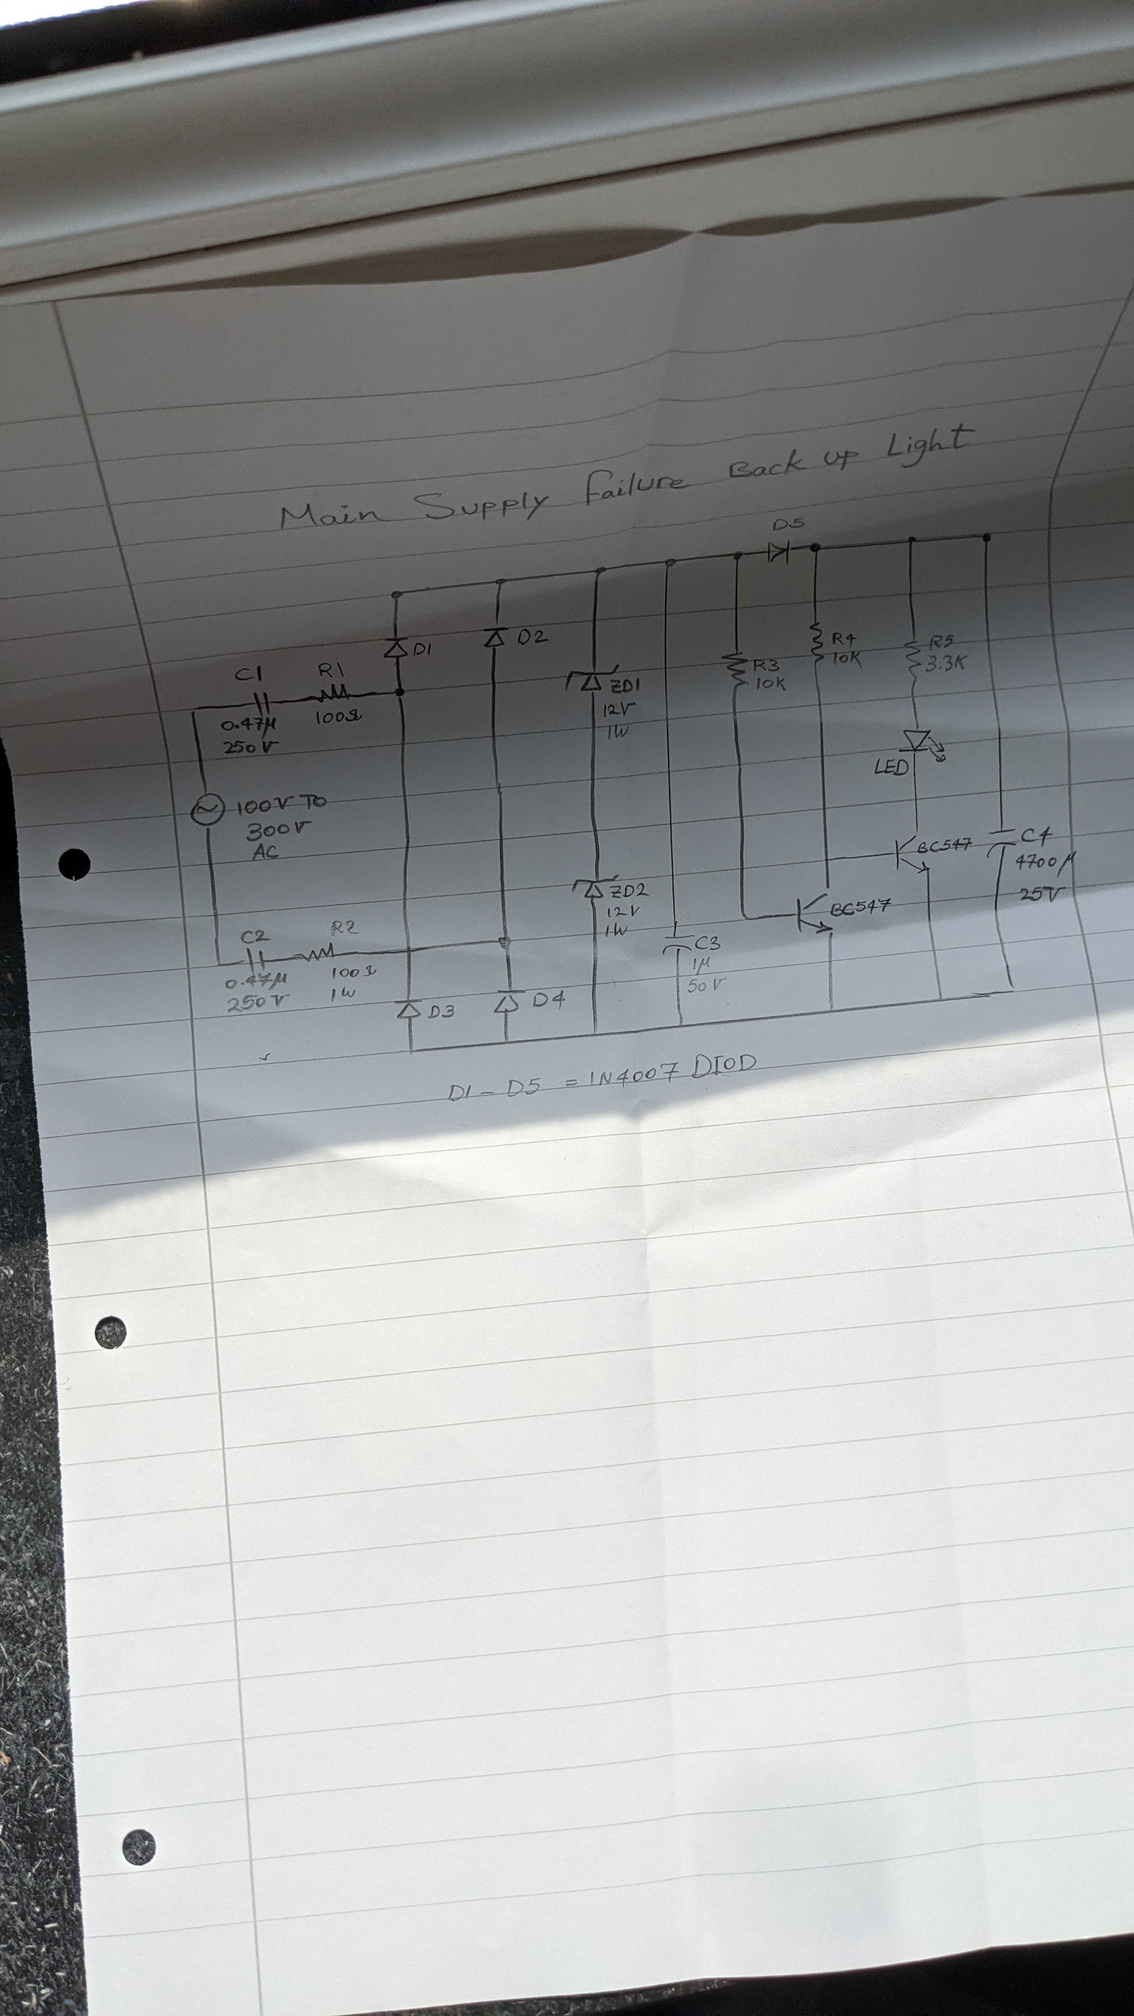capacitor.unpolarized: (984, 822, 1016, 858), (238, 944, 271, 973), (660, 933, 695, 957), (251, 690, 277, 717)
crossover: (402, 943, 420, 958)
diode: (564, 663, 620, 694), (570, 874, 620, 899), (490, 987, 528, 1016), (480, 620, 510, 649), (393, 996, 424, 1022), (764, 539, 792, 566), (381, 636, 410, 660)
diode.light_emitting: (896, 727, 948, 764)
junction: (496, 935, 515, 950), (392, 685, 407, 701), (935, 991, 950, 1005), (827, 1002, 840, 1016), (389, 588, 404, 601), (588, 1027, 604, 1040), (663, 557, 678, 569), (501, 1036, 515, 1048), (676, 1019, 690, 1032), (1007, 982, 1019, 996), (980, 532, 994, 544), (809, 541, 822, 554), (731, 548, 744, 562), (593, 564, 606, 576), (738, 911, 752, 924), (493, 576, 508, 587), (406, 1045, 420, 1056), (906, 534, 918, 546), (821, 856, 834, 865), (188, 705, 199, 714), (215, 960, 226, 969)
resistor: (719, 648, 750, 688), (291, 942, 338, 965), (307, 683, 354, 703), (901, 637, 922, 683), (807, 619, 827, 665)
text: (276, 420, 978, 534), (446, 1051, 759, 1104), (235, 792, 328, 817), (1014, 850, 1077, 878), (245, 820, 313, 843), (226, 993, 294, 1014), (829, 897, 893, 918), (220, 717, 278, 739), (224, 972, 289, 991), (1016, 883, 1068, 904), (917, 836, 973, 854), (314, 708, 364, 726), (222, 739, 280, 755), (609, 881, 651, 901), (924, 654, 969, 672), (330, 964, 378, 980), (532, 989, 568, 1011), (872, 757, 910, 778), (1020, 825, 1055, 847), (685, 978, 726, 996), (516, 626, 551, 647), (831, 649, 865, 670), (602, 699, 637, 719), (249, 842, 281, 863), (609, 676, 642, 695), (330, 918, 361, 937), (233, 665, 264, 684), (316, 660, 346, 680), (755, 676, 789, 692), (606, 903, 641, 919), (771, 516, 809, 532), (928, 631, 955, 651), (330, 984, 357, 1004), (240, 928, 271, 944), (829, 630, 858, 648), (426, 1002, 456, 1020), (694, 935, 721, 953), (752, 656, 781, 673), (691, 954, 712, 976), (606, 723, 631, 741), (604, 921, 629, 939), (411, 640, 433, 658)
transistor: (793, 882, 836, 937), (892, 829, 933, 875)
voltage.dc_ac: (188, 789, 228, 831)
